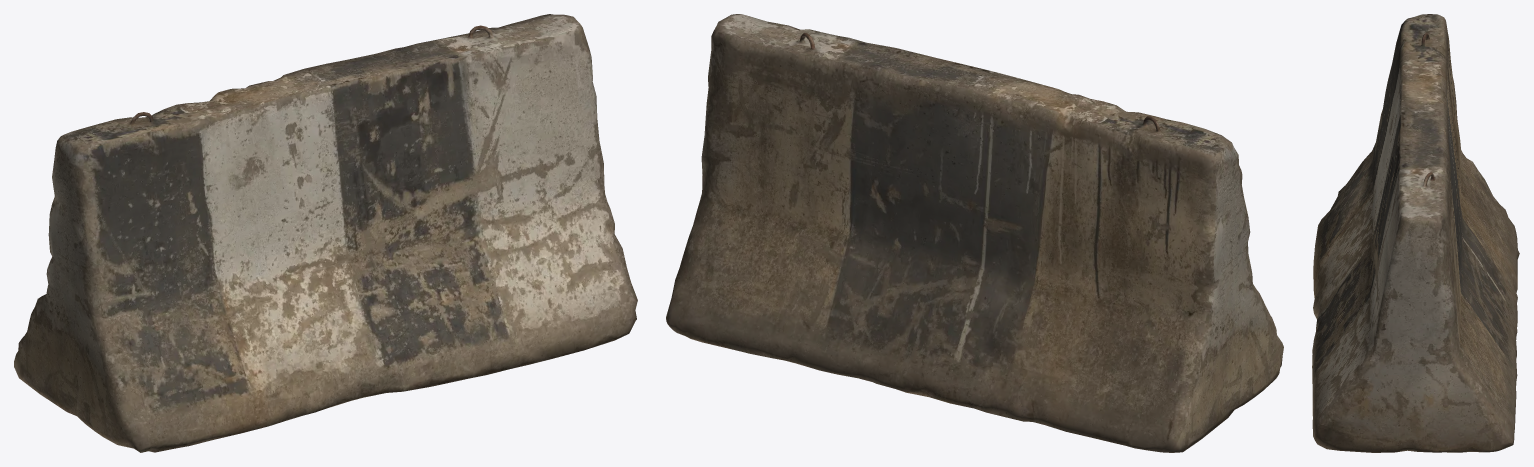
File: concrete_road_barrier.glb
3 views of the same model, side by side, from view 1: azimuth 30°, elevation 25°; view 2: azimuth 150°, elevation 25°; view 3: azimuth 270°, elevation 25° (orthographic). The views are drawn at different scales.
Parts seen in each view (by area): view 1: concrete_road_barrier_LOD3; view 2: concrete_road_barrier_LOD3; view 3: concrete_road_barrier_LOD3.
Boxes of the visible parts, x1,y1,x2,y2 form: concrete_road_barrier_LOD3: (14, 14, 637, 452); concrete_road_barrier_LOD3: (666, 14, 1283, 452); concrete_road_barrier_LOD3: (1312, 14, 1519, 452).
Size of the model in its own units: 1.54 by 0.8326 by 0.6374.
Materials: 1 (1 with a texture image).
